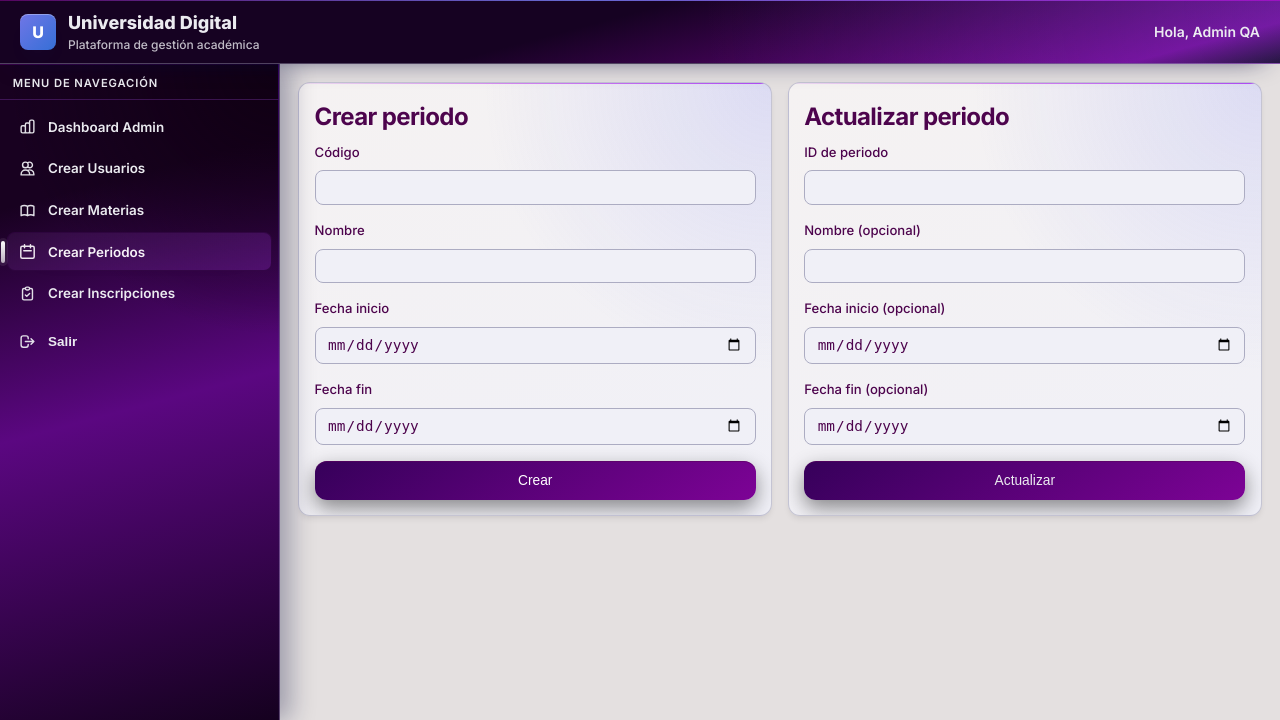
Scenario: Periodos — Gestión básica › crea periodo con fechas válidas
Type "2026A" into the field named "code" at point(536, 188), box x1=315 y1=170 x2=756 y2=205
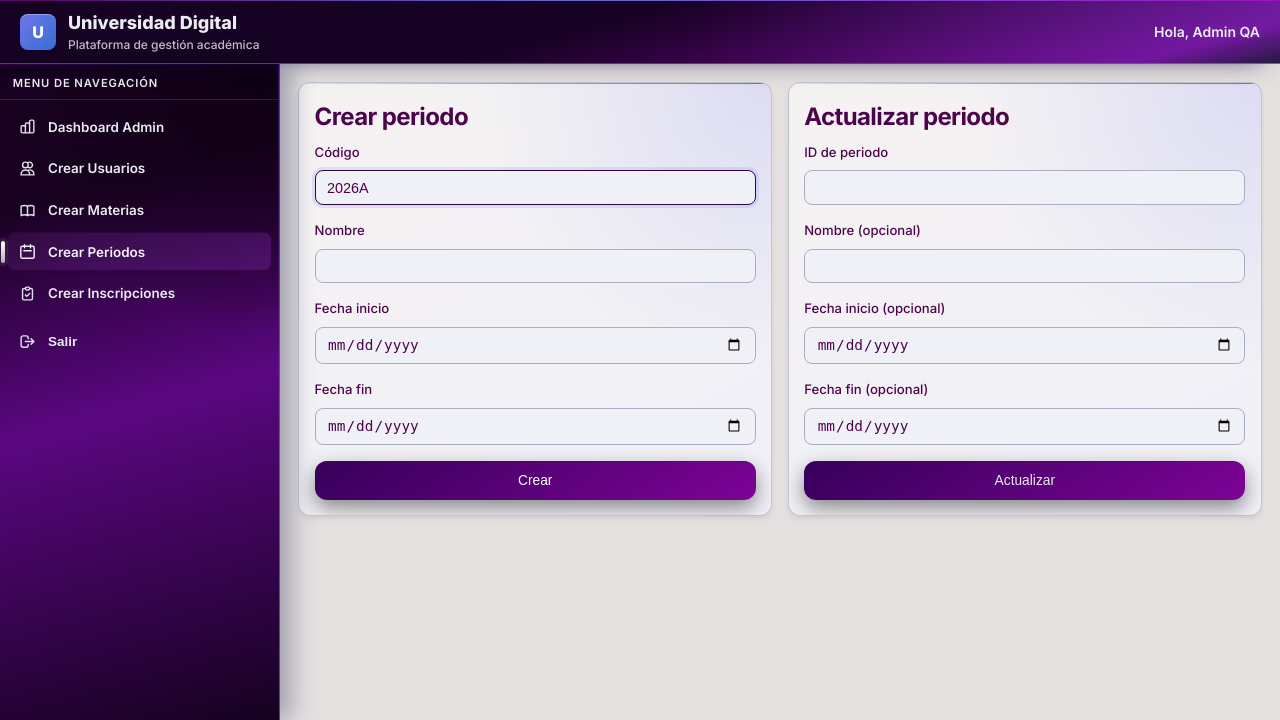
Type "Periodo 2026-A" into the field named "name" at point(536, 267), box x1=315 y1=249 x2=756 y2=284
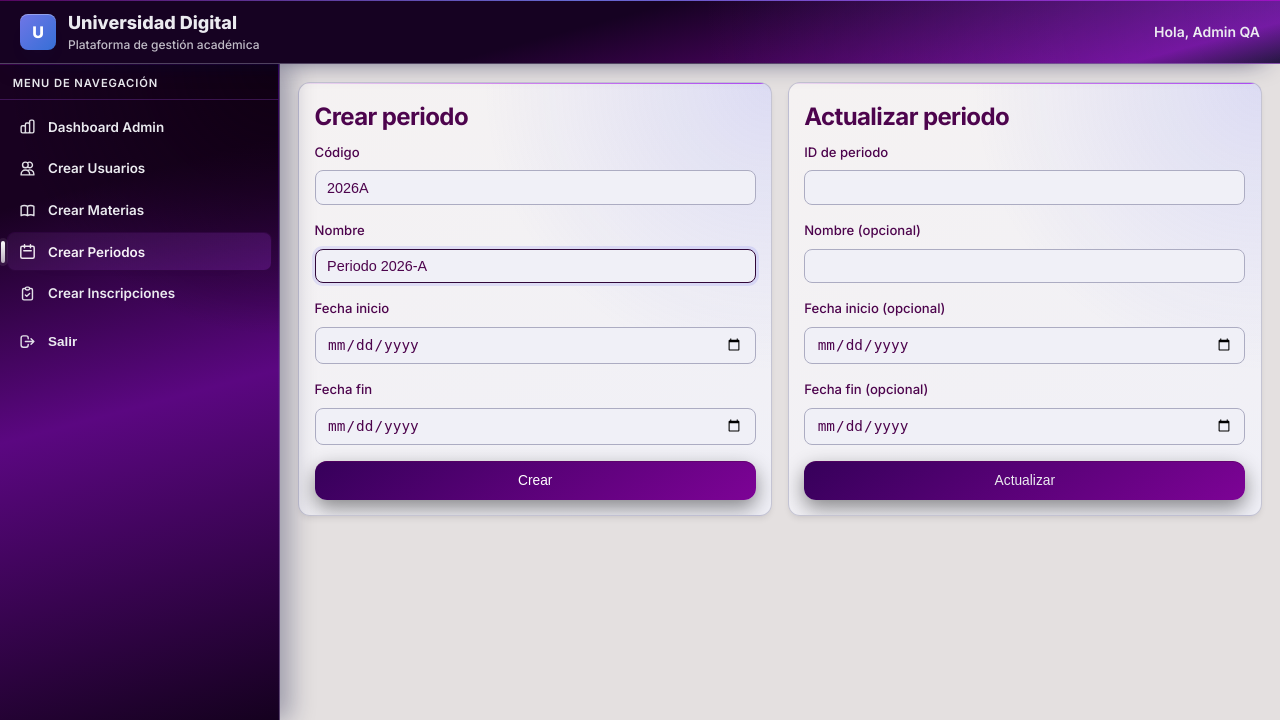
Type "2026-01-10" into the date field named "start_date" at point(536, 346), box x1=315 y1=327 x2=756 y2=364
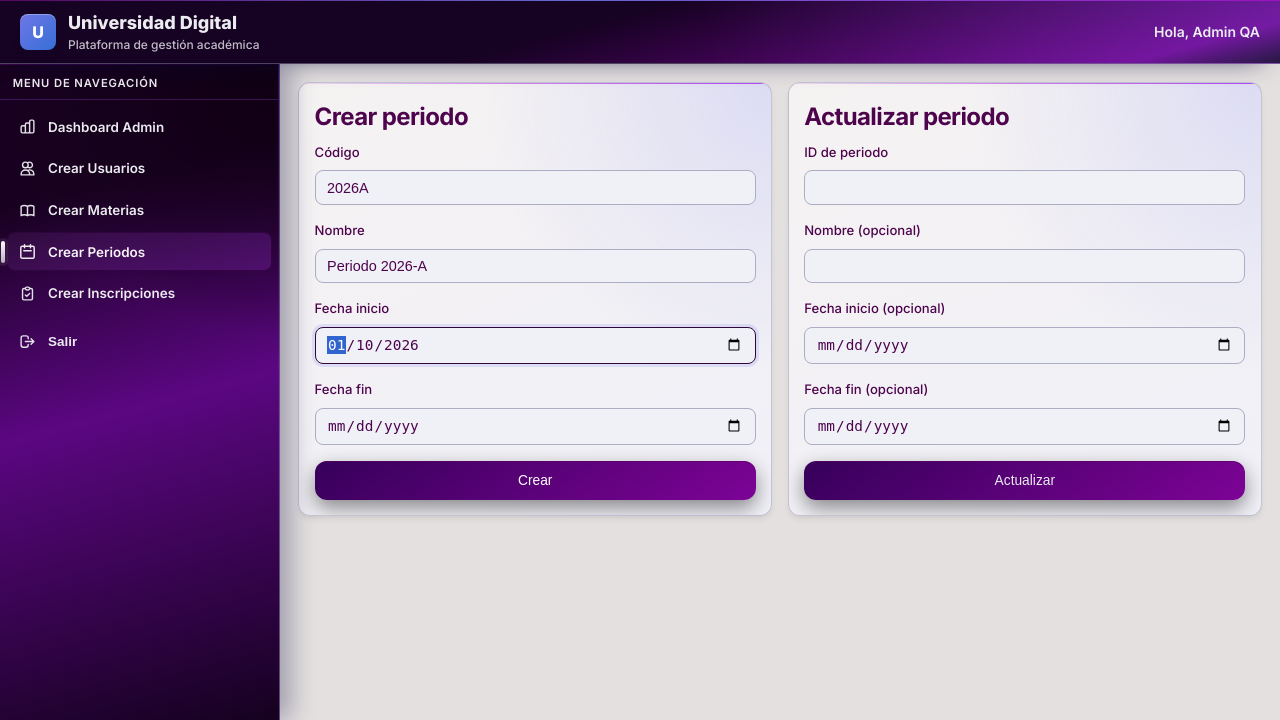
Type "2026-06-10" into the date field named "end_date" at point(536, 427), box x1=315 y1=408 x2=756 y2=445
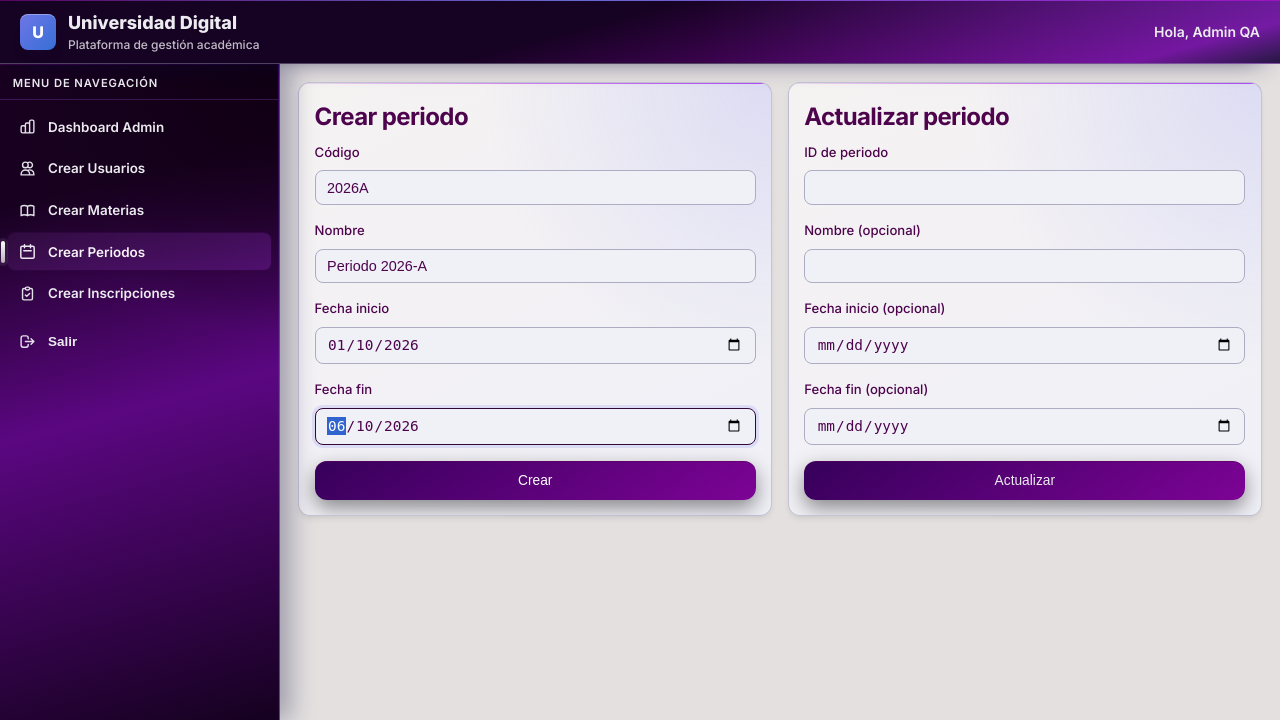
Click the button "Crear" at point(536, 481), box x1=315 y1=461 x2=756 y2=500
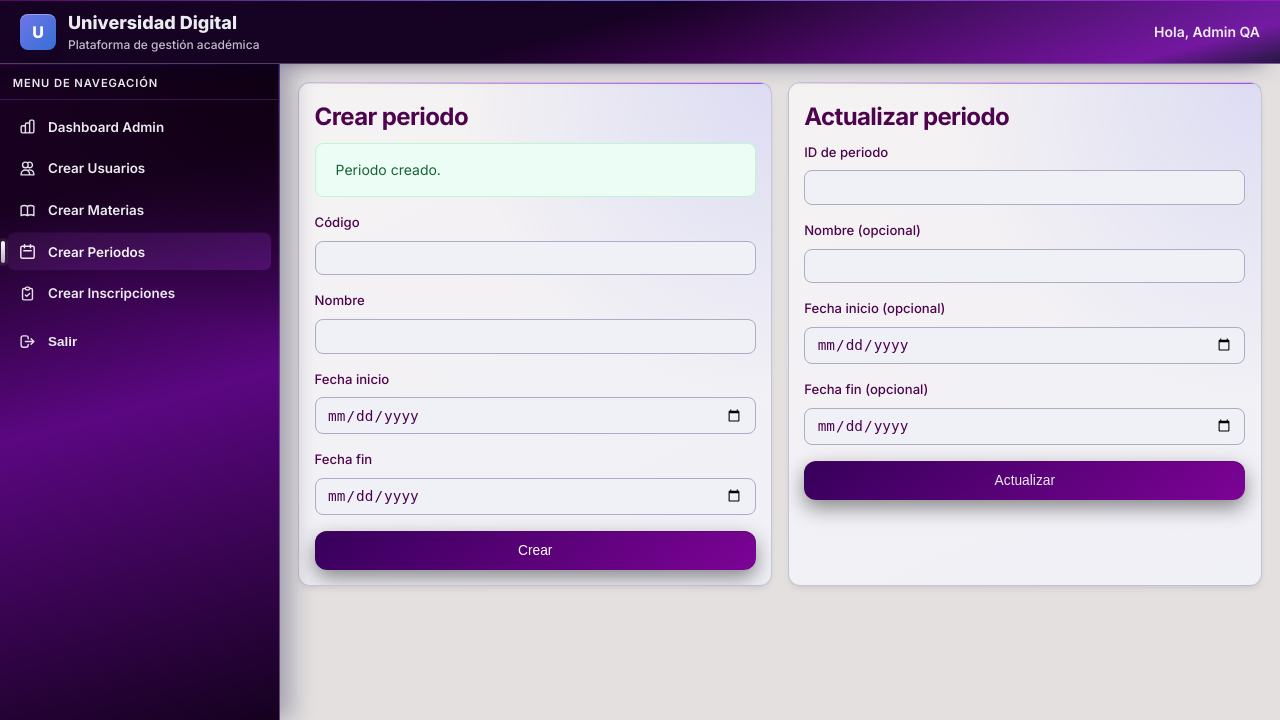
Check: the text "Periodo creado." is shown, box x1=315 y1=143 x2=756 y2=197
